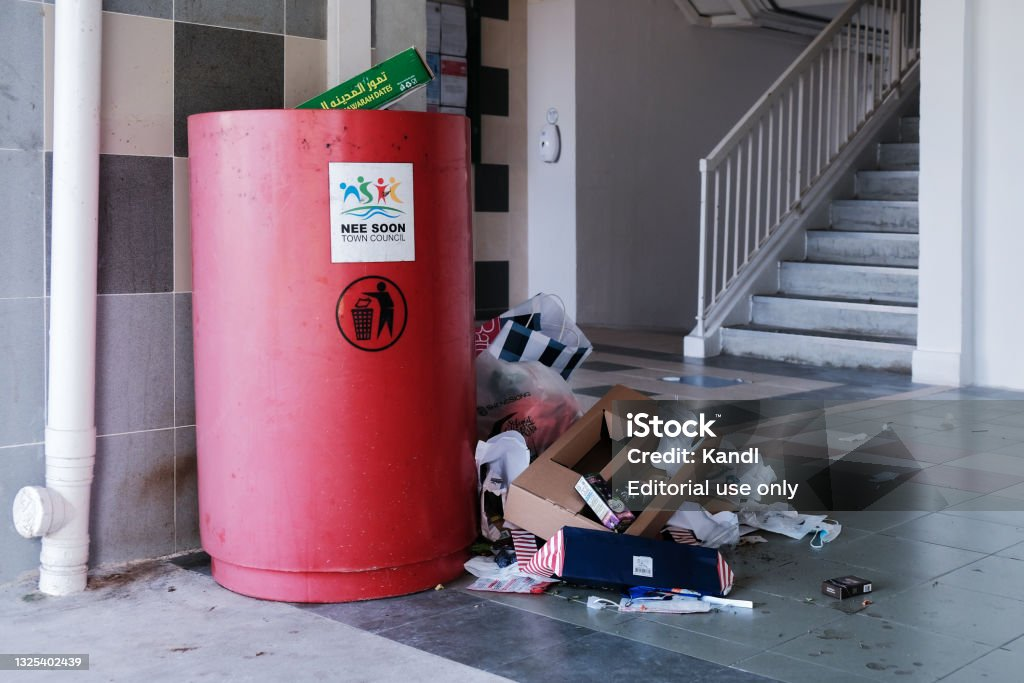bin_empty: (188, 109, 476, 601)
normal_waste: (505, 386, 656, 539), (475, 293, 592, 454), (524, 527, 732, 596), (298, 47, 433, 109), (624, 496, 670, 538)
